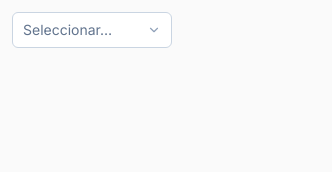
Select › muestra el placeholder, abre la lista y elige una opción
Expected: the text "Seleccionar…" is shown, [23,20,112,40]
// El nombre accesible incluye el texto visible: «Número: Seleccionar…».
What coordinates should you click on to do the following:
click the button with aria-label "Número"
I would click on:
 (92, 30)
Its box is [12,12,172,48].
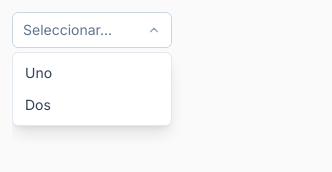
Now the list is shown, box [12,52,172,126]
What coordinates should you click on to do the following:
click the option "Dos"
I would click on:
 (38, 104)
Its box is [25,96,51,113].
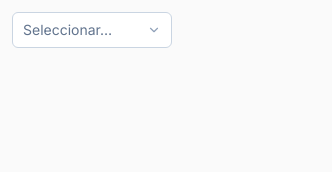
Now the list is gone
